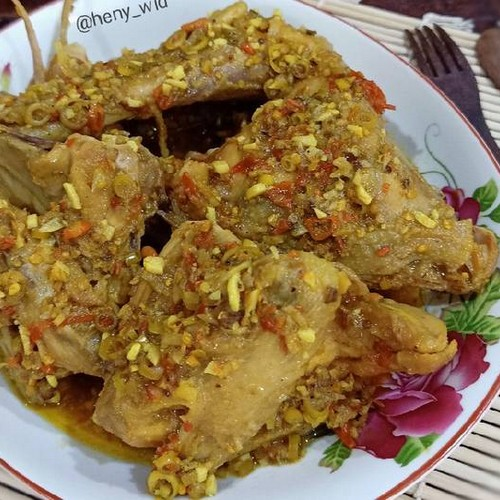ayam betutu: (8, 59, 411, 440)
